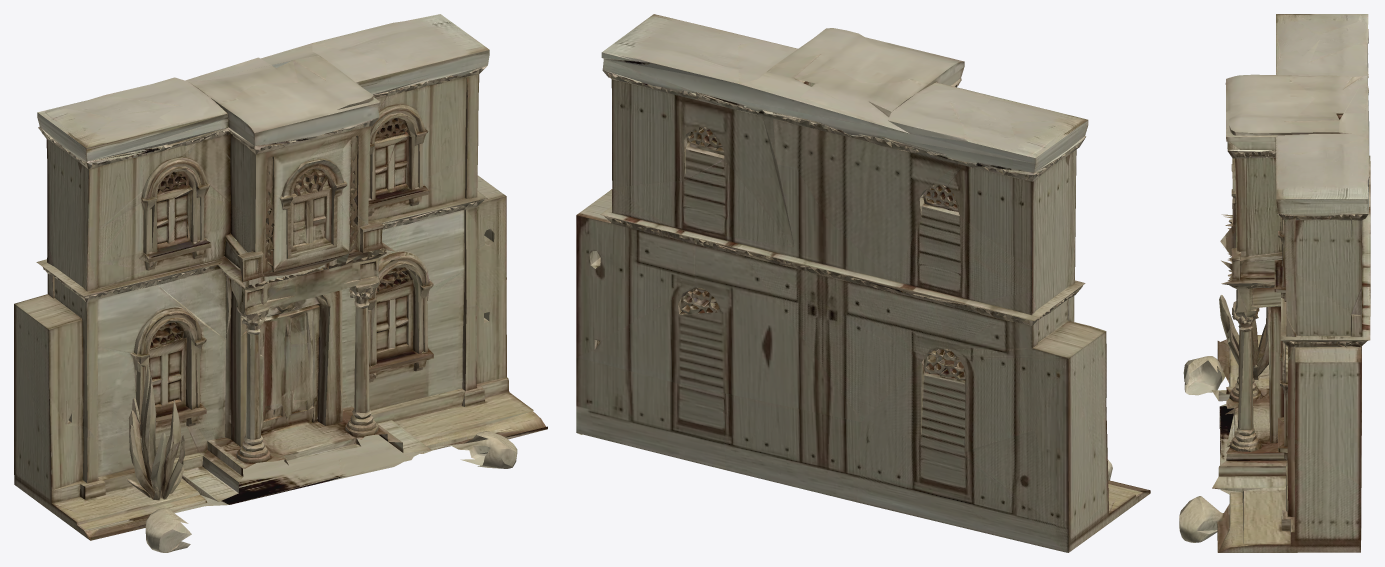
The model's file is bldg1.glb.
3 renders of one model, left to right at view 1: azimuth 30°, elevation 25°; view 2: azimuth 150°, elevation 25°; view 3: azimuth 270°, elevation 25°, orthographic. The views are drawn at different scales.
Bounding box in the file's own units: 1.9 × 1.53 × 0.7321.
Materials: 1 (1 with a texture image).
